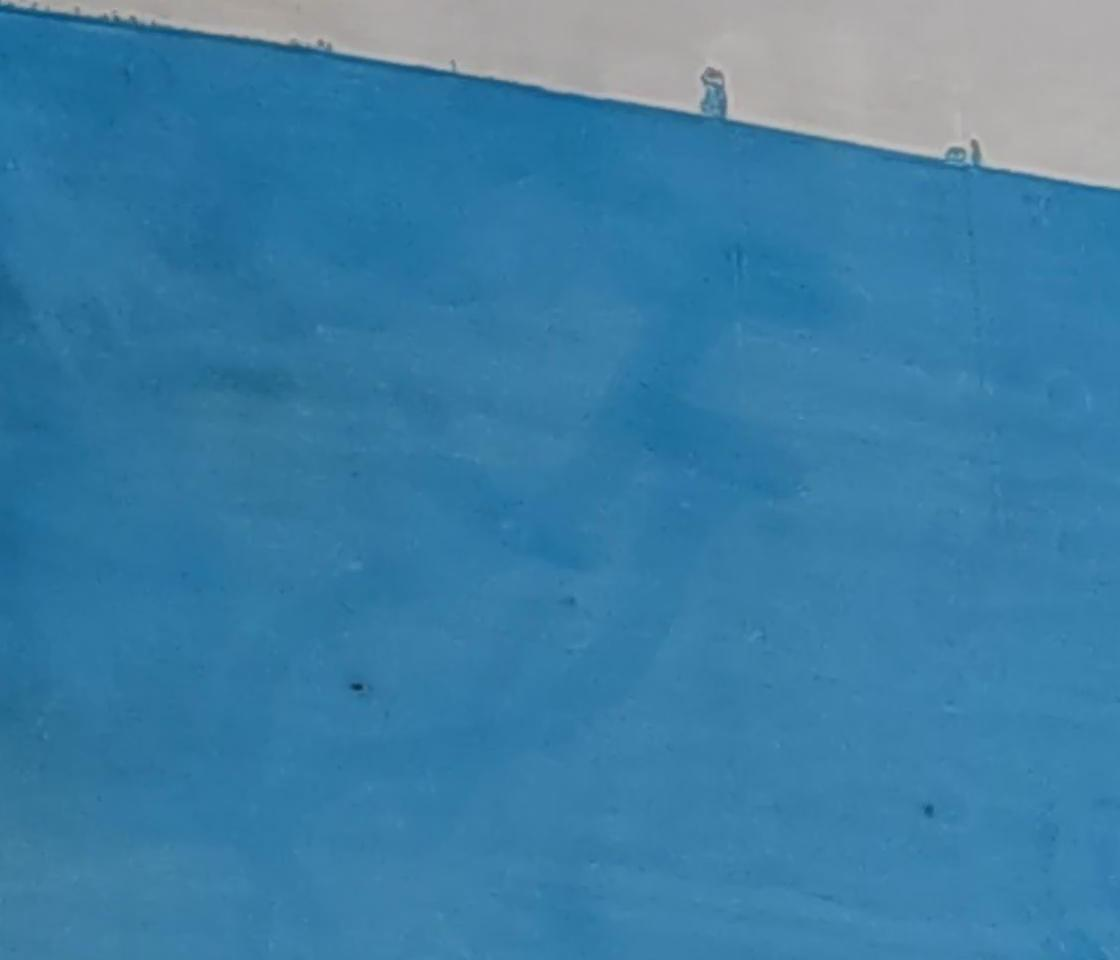scratch: (338, 679, 376, 696)
